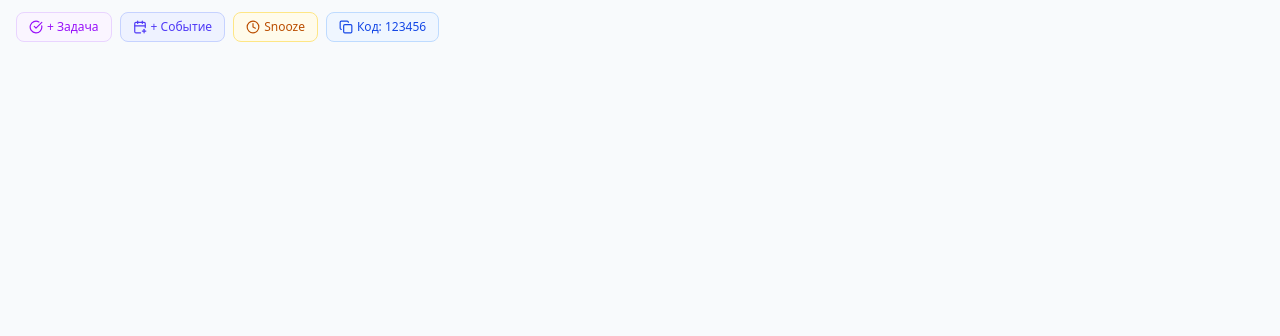
Scenario: MessageActions › предзаполняет заголовок и описание из сообщения (AC1/AC2)
Click the button "+ Задача" at (64, 27), box [16, 12, 112, 42]
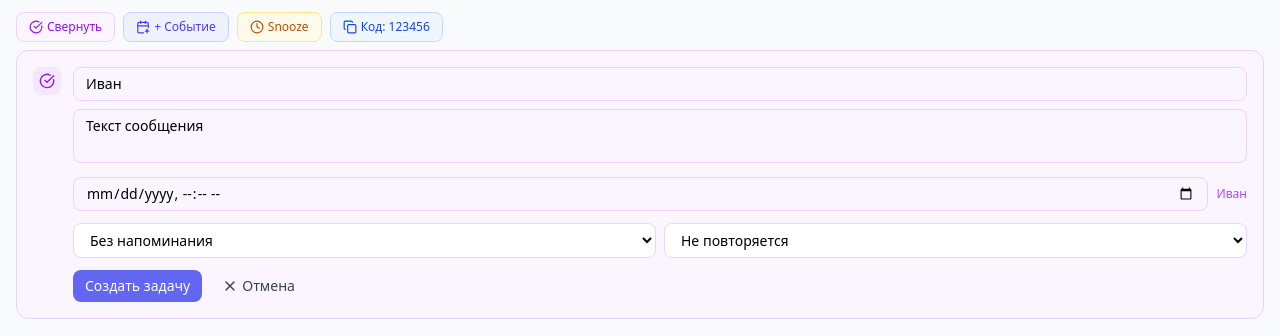
Now the 1st field with placeholder "Заголовок задачи" holds "Иван", box [73, 67, 1247, 101]
Now the text box with placeholder "Описание задачи (необязательно)..." holds "Текст сообщения", box [73, 109, 1247, 163]
